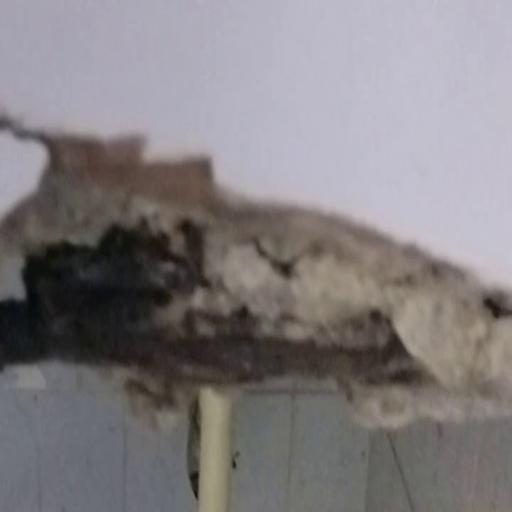spalling: (4, 124, 512, 415)
